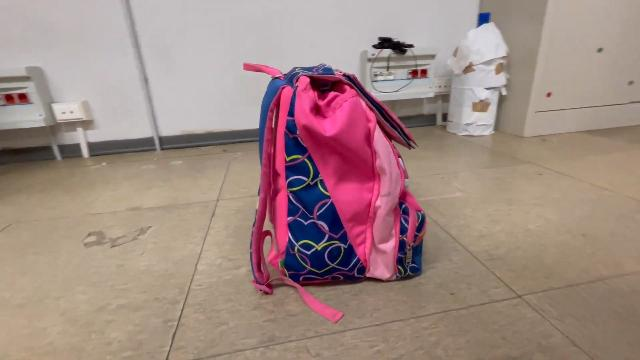Backpack: (236, 53, 432, 332)
